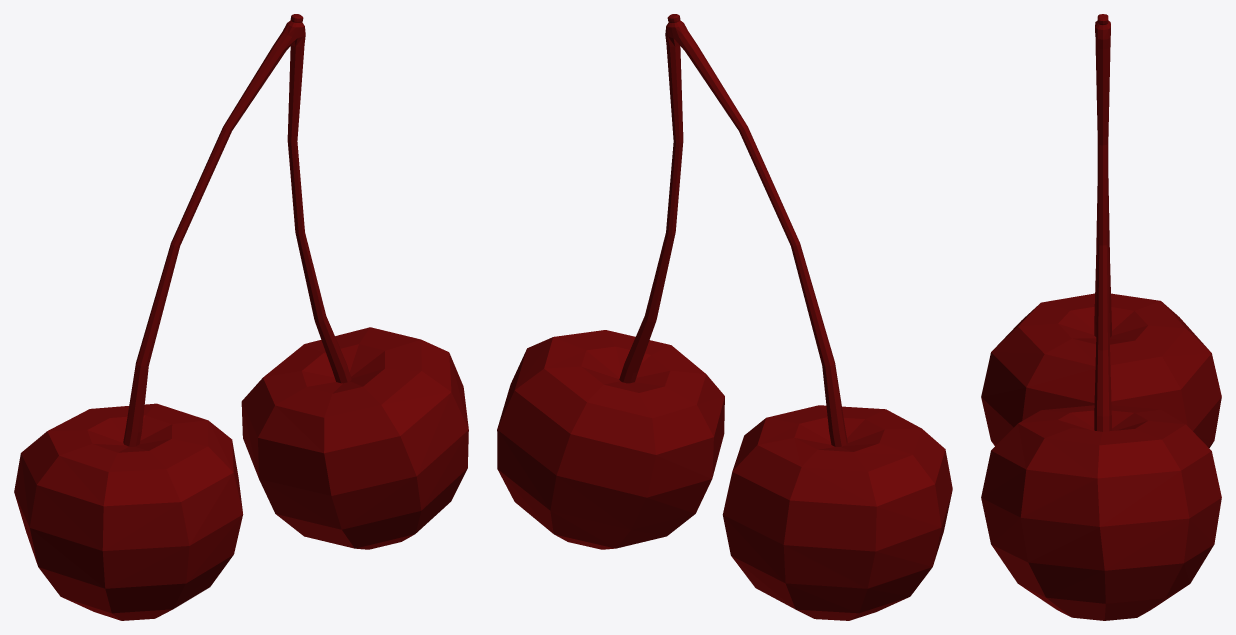
The model's file is Cherry.gltf.
The picture shows the model from 3 angles, left to right: view 1: azimuth 30°, elevation 25°; view 2: azimuth 150°, elevation 25°; view 3: azimuth 270°, elevation 25°; orthographic projection. The views are drawn at different scales.
Parts seen in each view (by area): view 1: Node; view 2: Node; view 3: Node.
Boxes of the visible parts, x1,y1,x2,y2 form: Node: (14, 14, 468, 620); Node: (497, 14, 952, 620); Node: (981, 14, 1221, 620).
Bounding box in the file's own units: 4.18 × 5.13 × 1.94.
